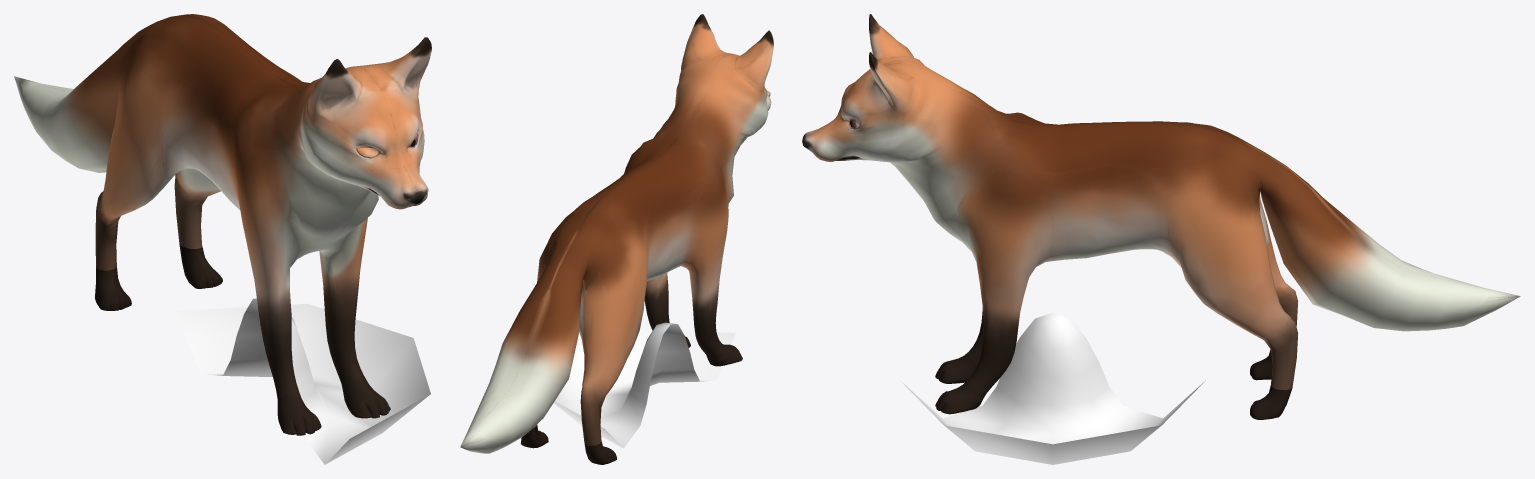
The model's file is fox.glb.
The picture shows the model from 3 angles, left to right: view 1: azimuth 30°, elevation 25°; view 2: azimuth 150°, elevation 25°; view 3: azimuth 270°, elevation 25°; orthographic projection. The views are drawn at different scales.
Parts seen in each view (by area): view 1: Fox, Sombrero; view 2: Fox, Sombrero; view 3: Fox, Sombrero.
Boxes of the visible parts, left/top/right/bottom form: Fox: left=14, top=14, right=431, bottom=435; Sombrero: left=175, top=298, right=430, bottom=464; Fox: left=460, top=14, right=773, bottom=464; Sombrero: left=554, top=322, right=735, bottom=448; Fox: left=802, top=14, right=1520, bottom=419; Sombrero: left=901, top=313, right=1205, bottom=464.
Bounding box in the file's own units: 3.11 × 6.68 × 11.09.
Materials: 3 (2 with a texture image).
